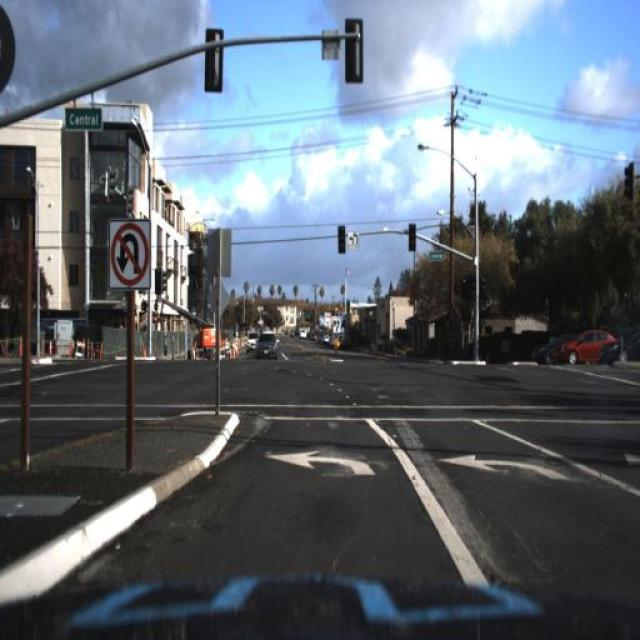car: (560, 328, 615, 363), (600, 332, 640, 368), (529, 335, 562, 363), (257, 333, 278, 358), (296, 320, 315, 344), (244, 329, 258, 359)
trafficLight-Green: (337, 215, 352, 256)
trafficLight-RedLeft: (408, 203, 420, 246), (464, 262, 477, 296), (336, 219, 346, 253)
